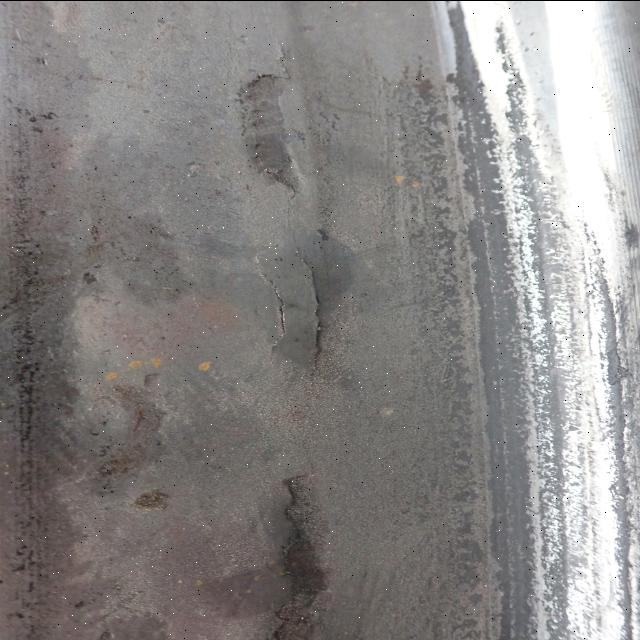boli: (265, 448, 335, 640), (204, 81, 320, 191), (272, 239, 326, 382)
